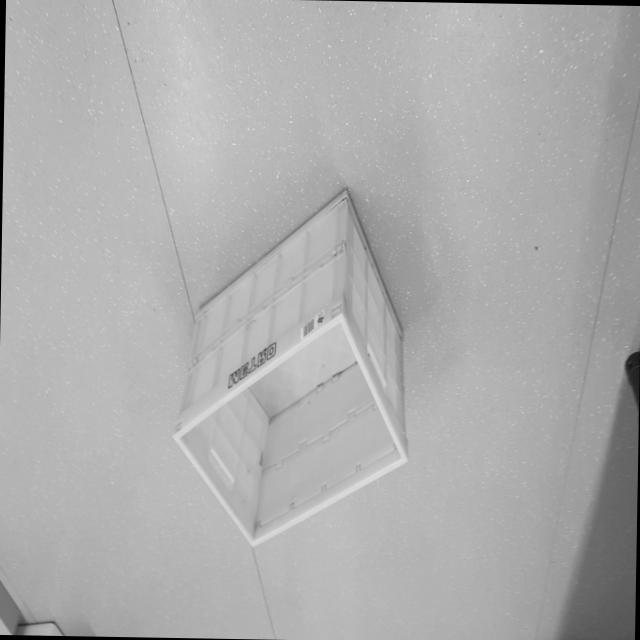box: (145, 152, 430, 559)
